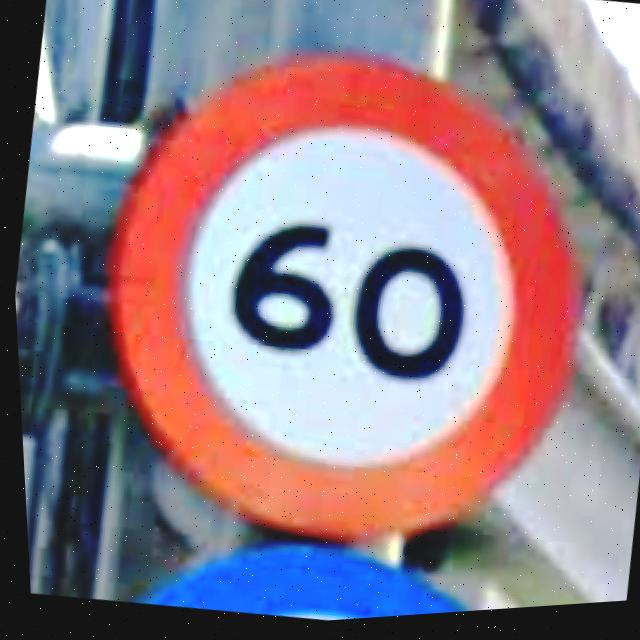max60: (53, 6, 627, 592)
